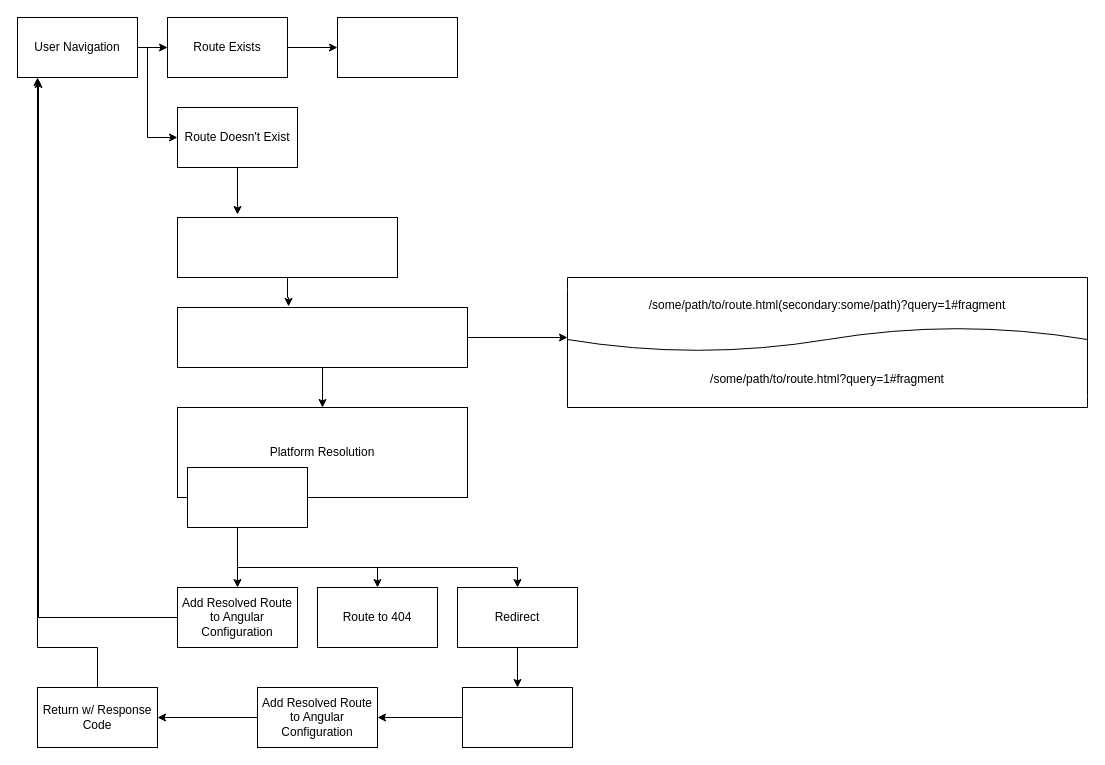
This 1105x765 diagram has some shape labels left out. Here are the shapes that lost their labels. From the top down, the centre of each, then its label:
At pixel 397 47: "Navigate to Existing Route".
At pixel 287 247: "DaffExternalRouterExistenceGuard".
At pixel 322 337: "Nornalize Route to Primary Outlet + Query Params".
At pixel 247 497: "Specific Platform Driver".
At pixel 517 717: "Replace Primary Outlet with Resolved Outlet".
